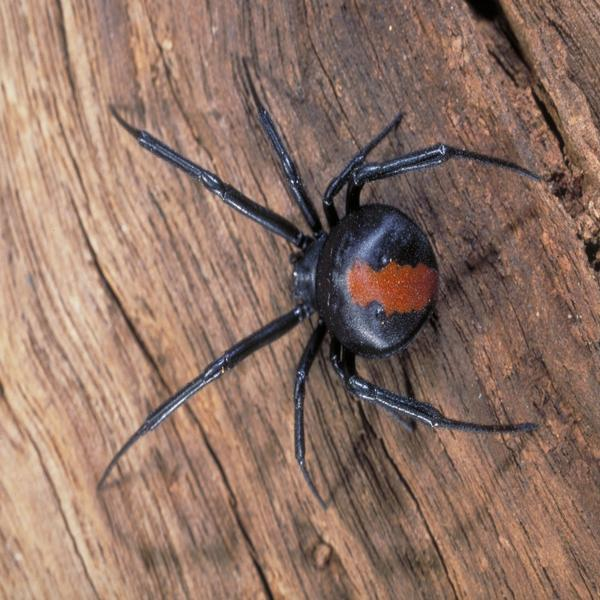Redback Spider: (104, 64, 554, 498)
